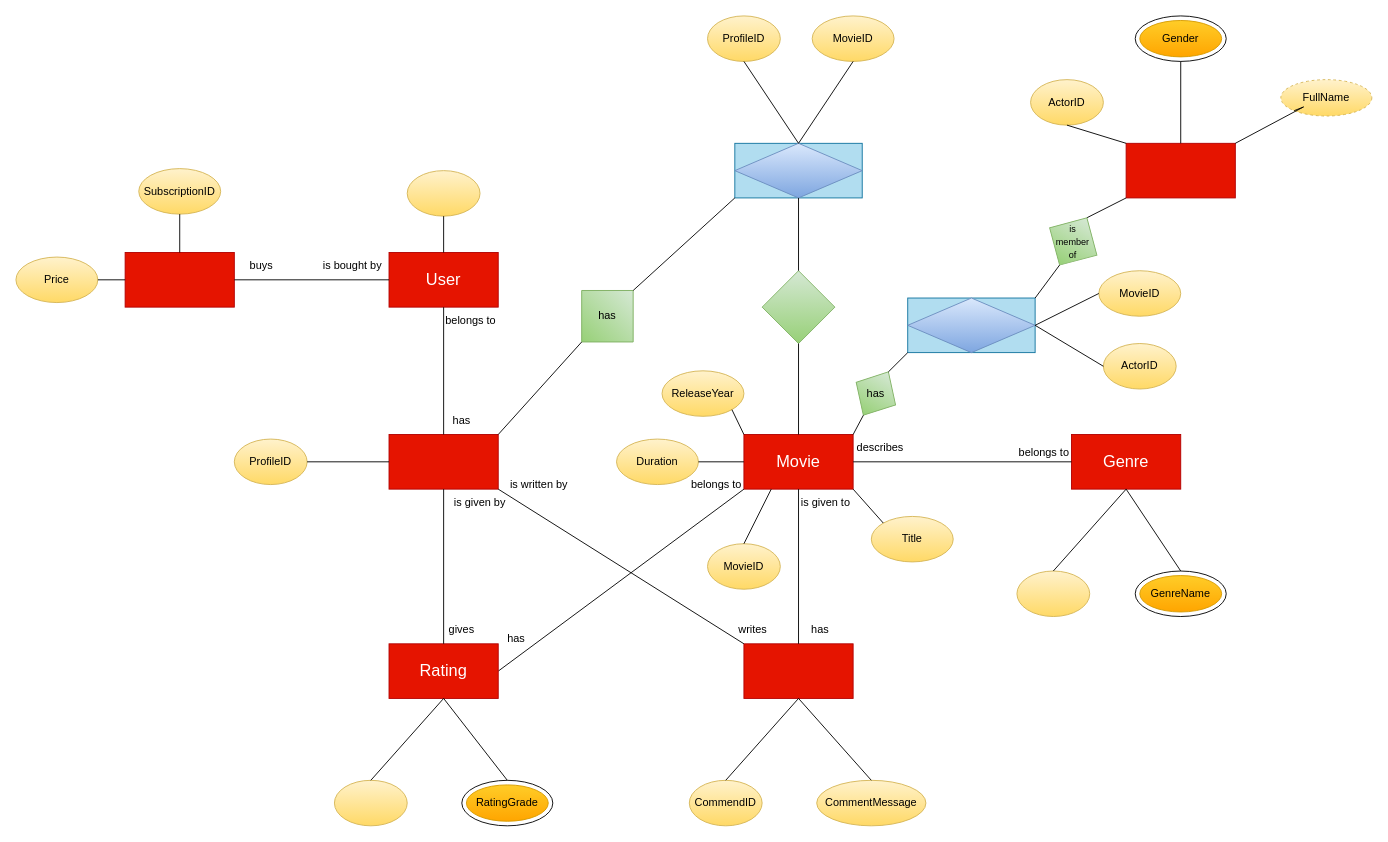
The diagram is 1388 pixels wide and 842 high, and some of its shapes have lost their labels. Each missing label, with the centre of its shape:
"Actor" goes at point 1180,170.
"Comment" goes at point 798,670.
"GenreID" goes at point 1053,593.
"is part of" goes at point 798,307.
"MovieActor" goes at point 971,325.
"RatingID" goes at point 370,802.
"Subscription" goes at point 179,279.
"UserID" goes at point 443,193.
"UserProfile" goes at point 443,461.
"Watchlist" goes at point 798,170.
